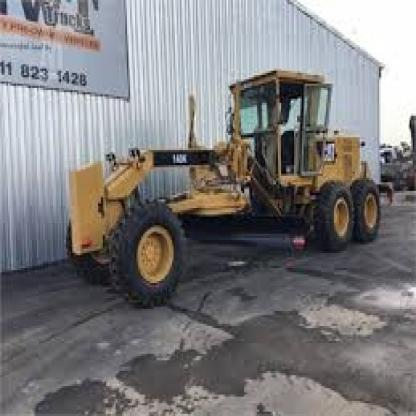bull_dozer/loader/grader: (57, 58, 378, 326)
